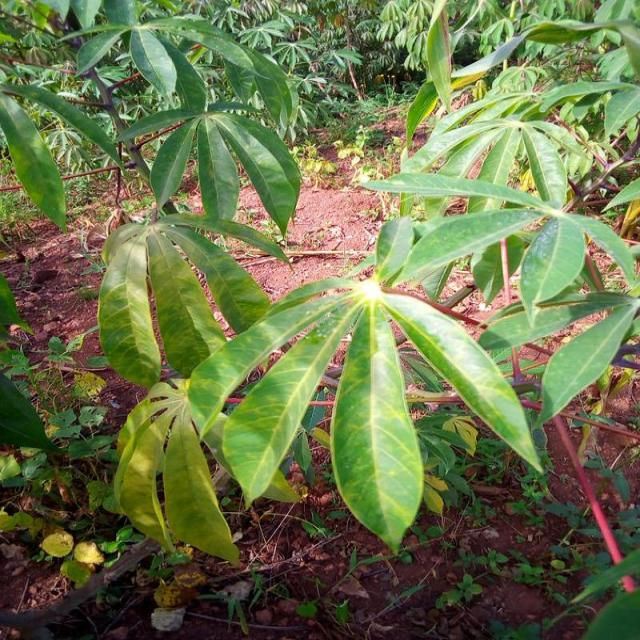cassava leaf: (379, 290, 544, 475), (329, 296, 424, 552)
